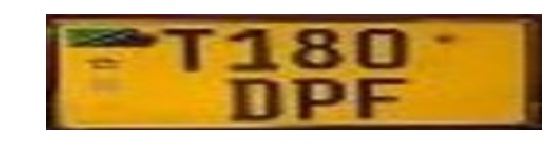T: (160, 21, 220, 79)
